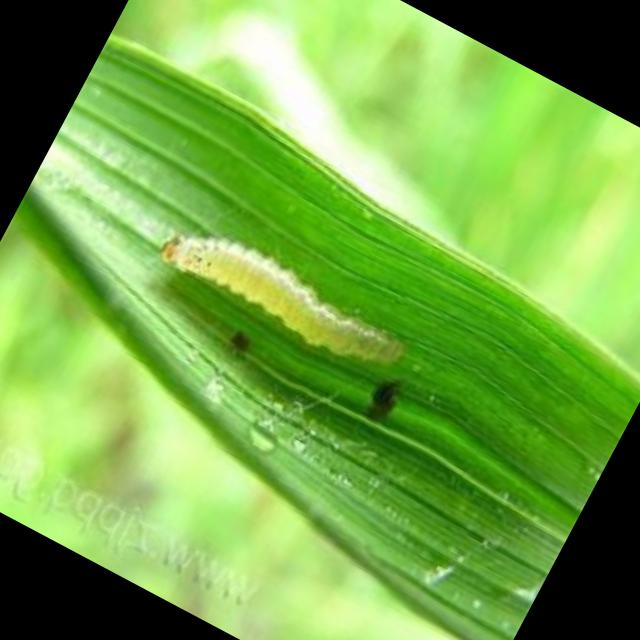leaf-folder: (132, 198, 422, 420)
